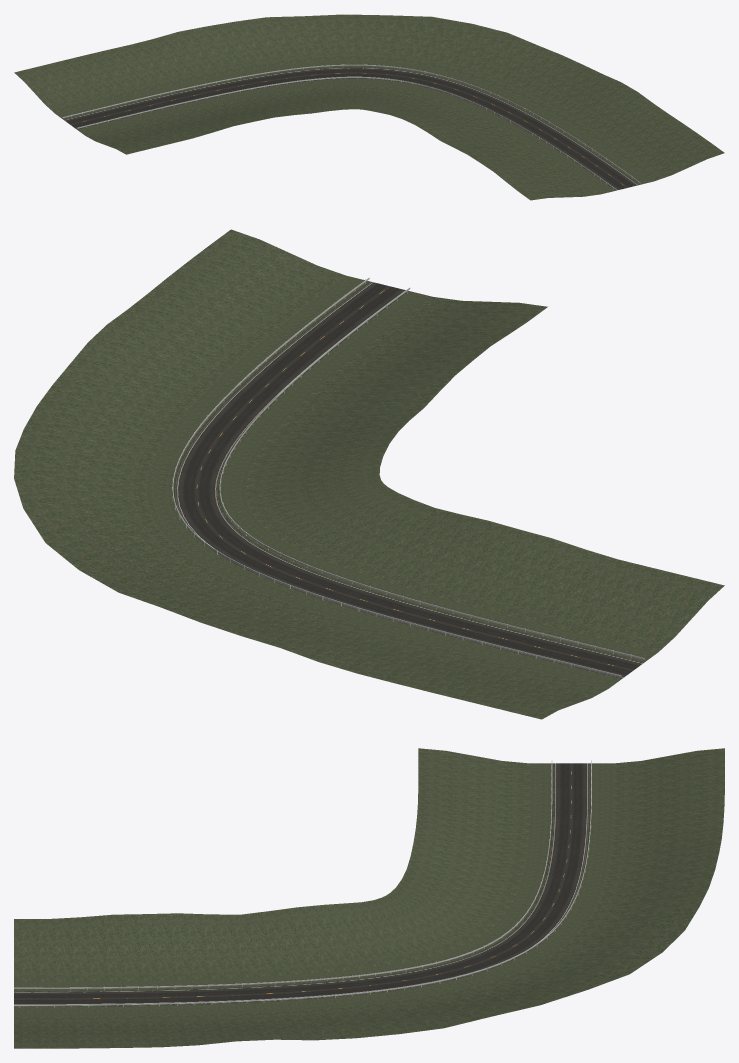
3 views of the same model, one above another, from view 1: azimuth 30°, elevation 25°; view 2: azimuth 150°, elevation 25°; view 3: azimuth 270°, elevation 25° (orthographic). The views are drawn at different scales.
Visible parts, largest first — view 1: Grass, HighWay, GuardRail; view 2: Grass, HighWay, GuardRail; view 3: Grass, HighWay, GuardRail.
Boxes of the visible parts, bbox=[...] form: Grass: bbox=[14, 14, 724, 200]; HighWay: bbox=[63, 67, 639, 190]; GuardRail: bbox=[62, 64, 640, 189]; Grass: bbox=[14, 229, 724, 719]; HighWay: bbox=[174, 281, 644, 678]; GuardRail: bbox=[172, 277, 645, 677]; Grass: bbox=[14, 748, 724, 1048]; HighWay: bbox=[14, 763, 590, 1006]; GuardRail: bbox=[14, 760, 591, 1007].
Size of what is drawn, in the model's own units: 255 by 7.51 by 255.
